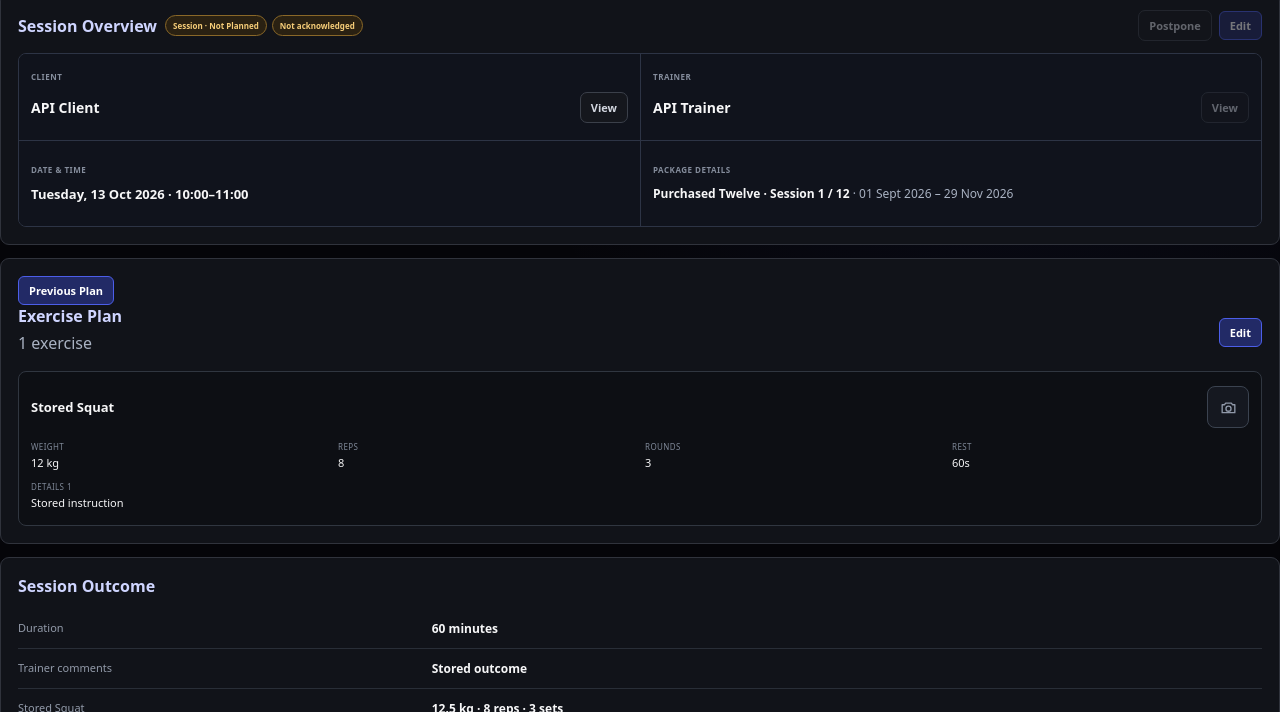
Test: plan-only capability freezes an uncertain save and keeps media/outcome/acknowledgement unavailable
Click the button with aria-label "Edit exercise plan": (1240, 332) [1219, 318, 1262, 346]
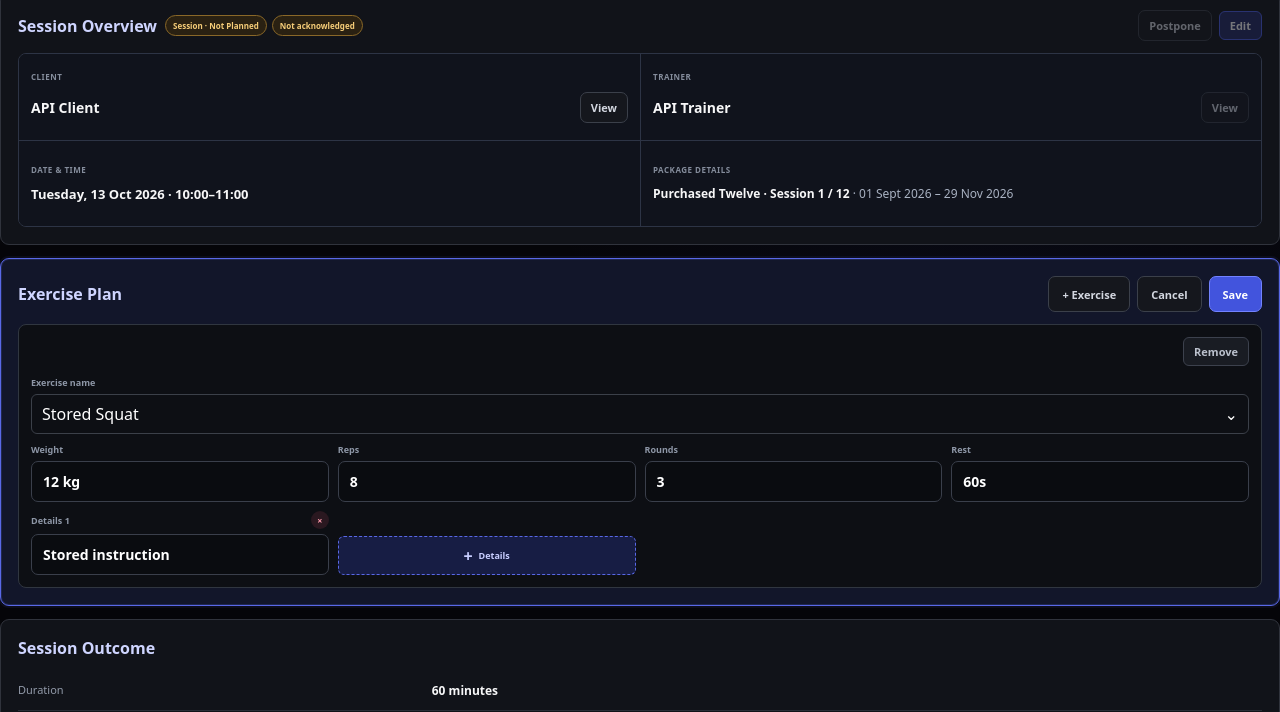
Replace the text in the field named "Exercise 1 weight" with "20 kg": (180, 482) [31, 461, 329, 502]
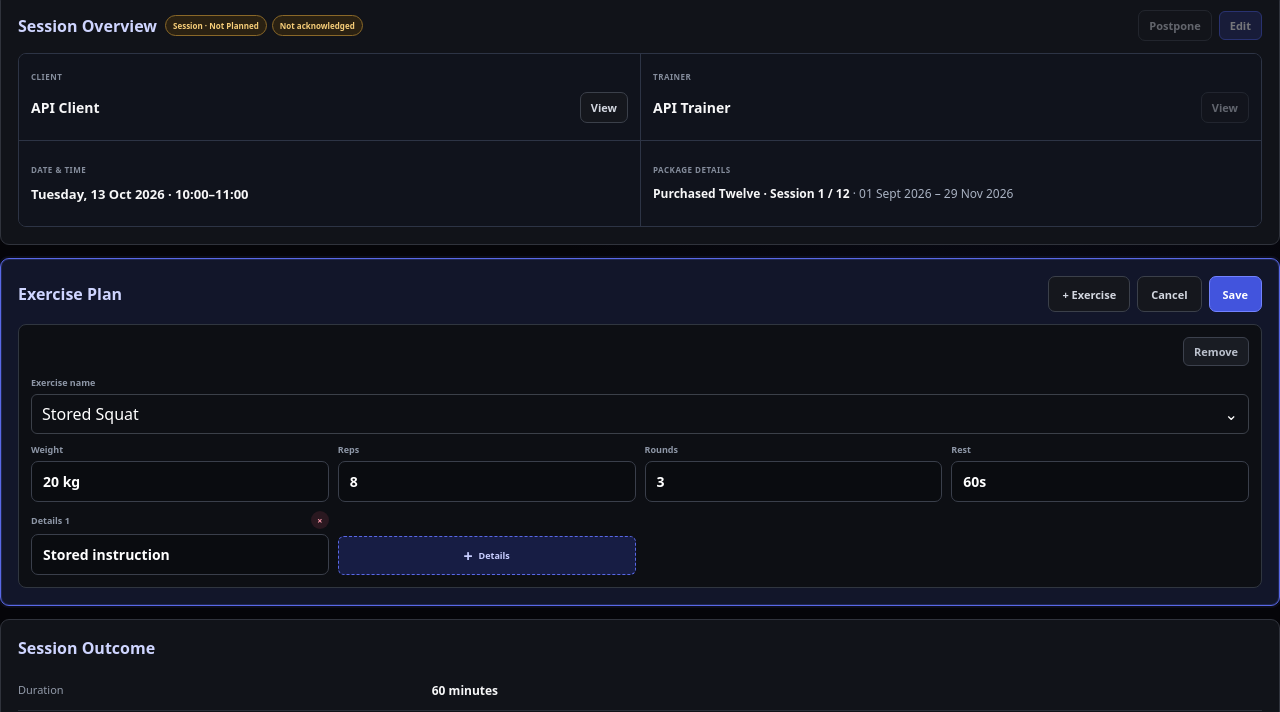
Click the button "Save": (1235, 294) [1208, 276, 1262, 312]
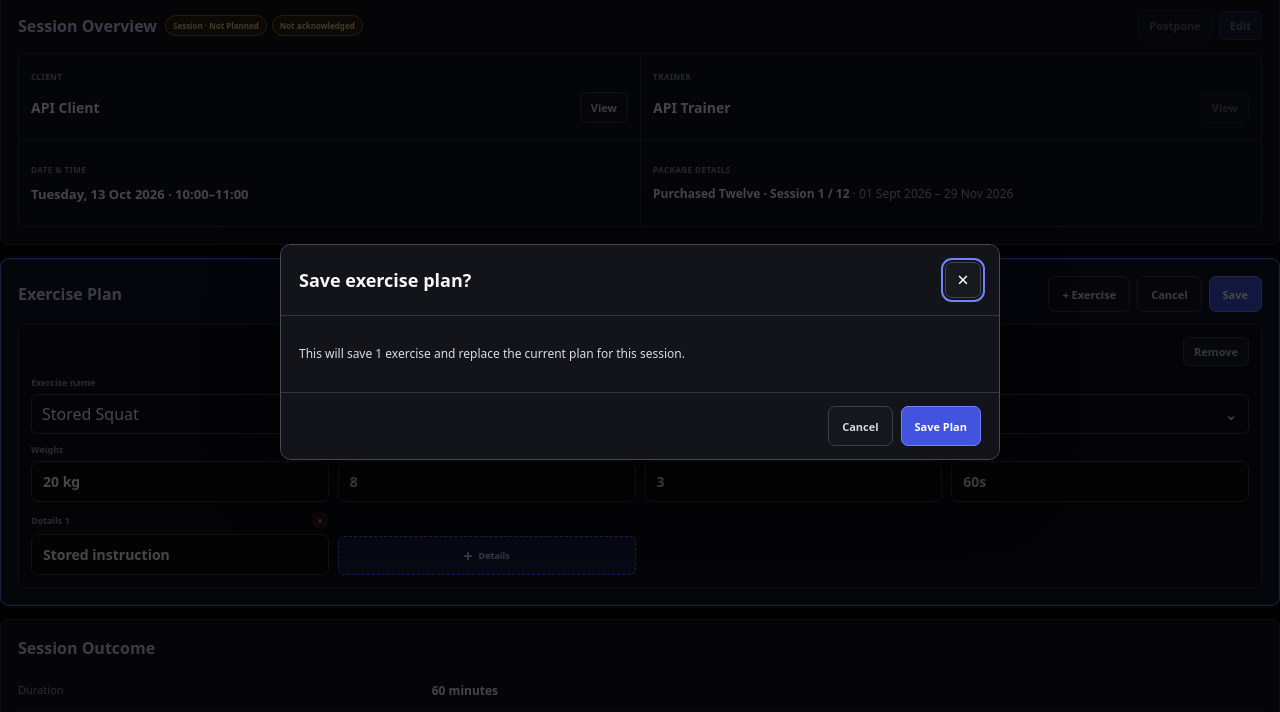
Check: the dialog "Save exercise plan?" does not show "Videos can be filmed", box [280, 244, 1000, 460]
Click the button "Save Plan": (941, 426) [900, 406, 981, 446]
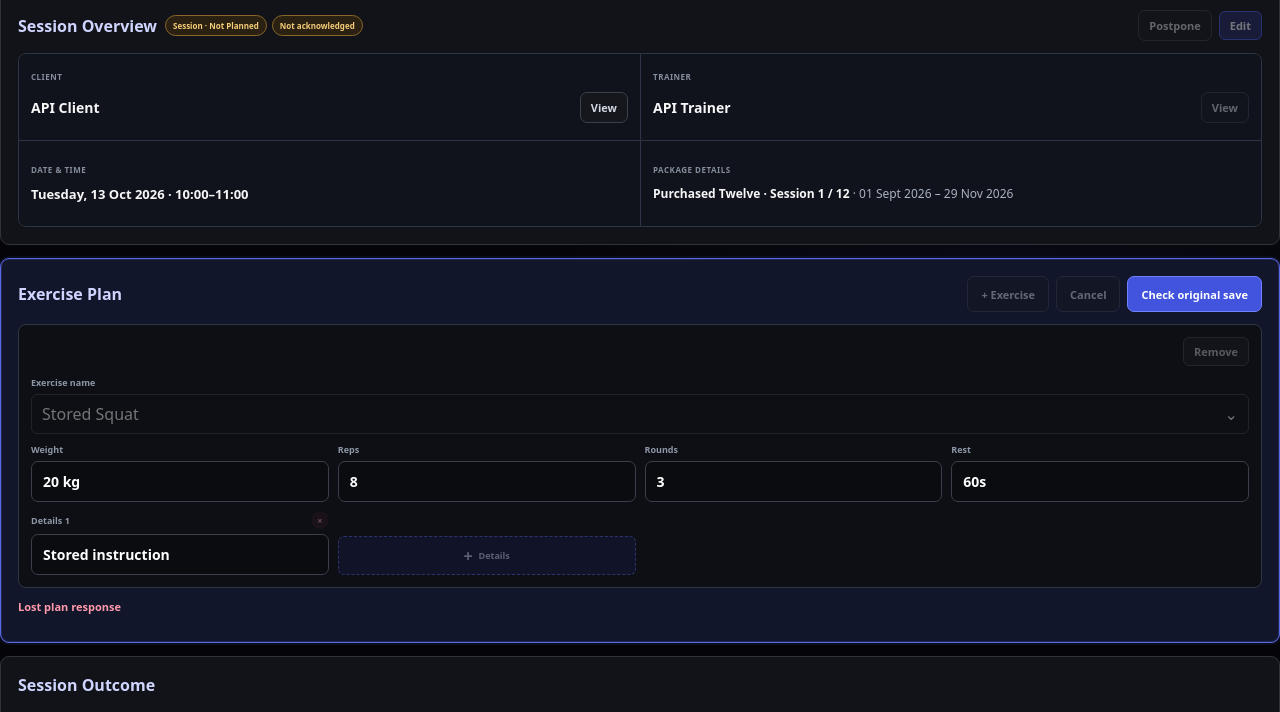
Check: the field named "Exercise 1 weight" is disabled, box [31, 461, 329, 502]
Check: the message reads "Lost plan response", box [18, 599, 121, 614]
Check: the button with aria-label "Add Exercise" is disabled, box [967, 276, 1049, 312]
Click the button "Check original save": (1195, 294) [1128, 276, 1262, 312]
(page scrolled)
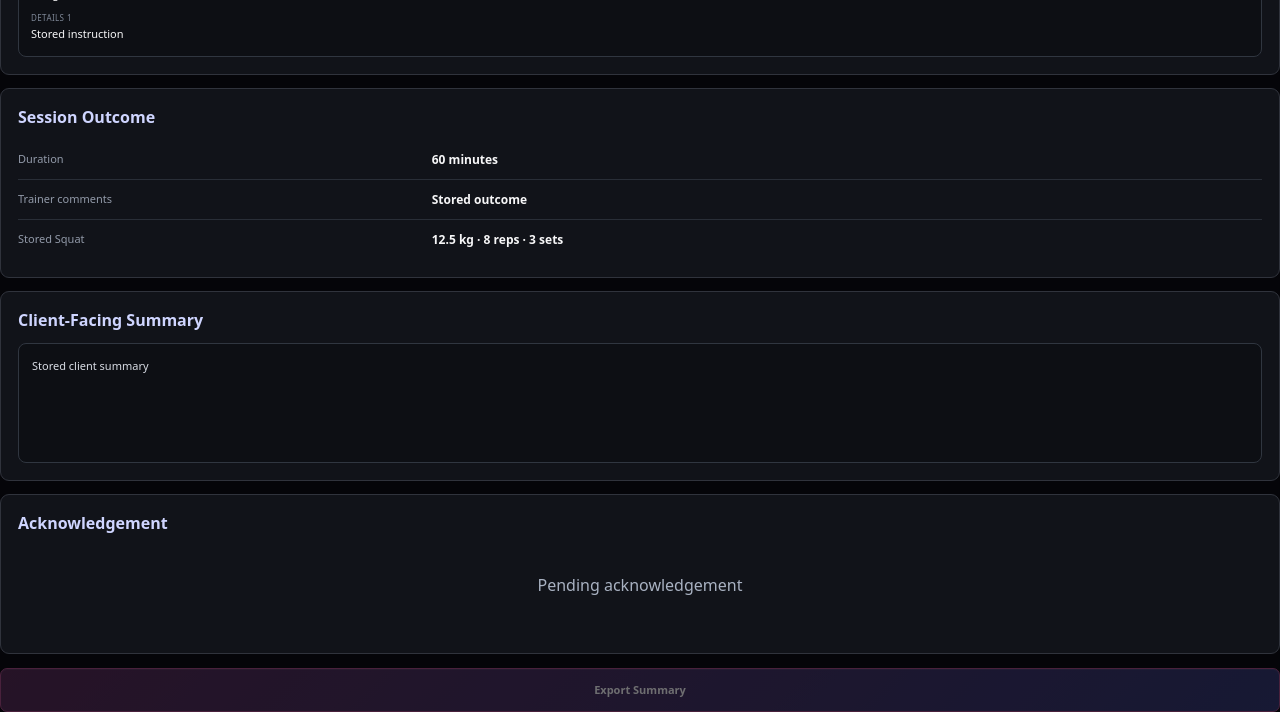
Check: the button "Export Summary" is disabled, box [0, 668, 1279, 711]
Check: the text "Stored instruction" is shown, box [31, 26, 124, 41]
